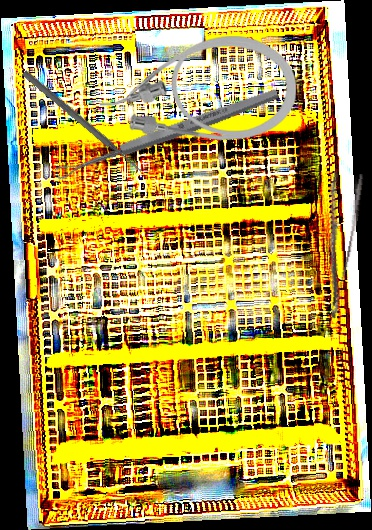Cannula: (100, 36, 296, 140)
Dressing Forceps: (304, 168, 367, 322)
Pusher: (20, 68, 145, 176)
Surgical Spoon: (53, 85, 281, 182)
